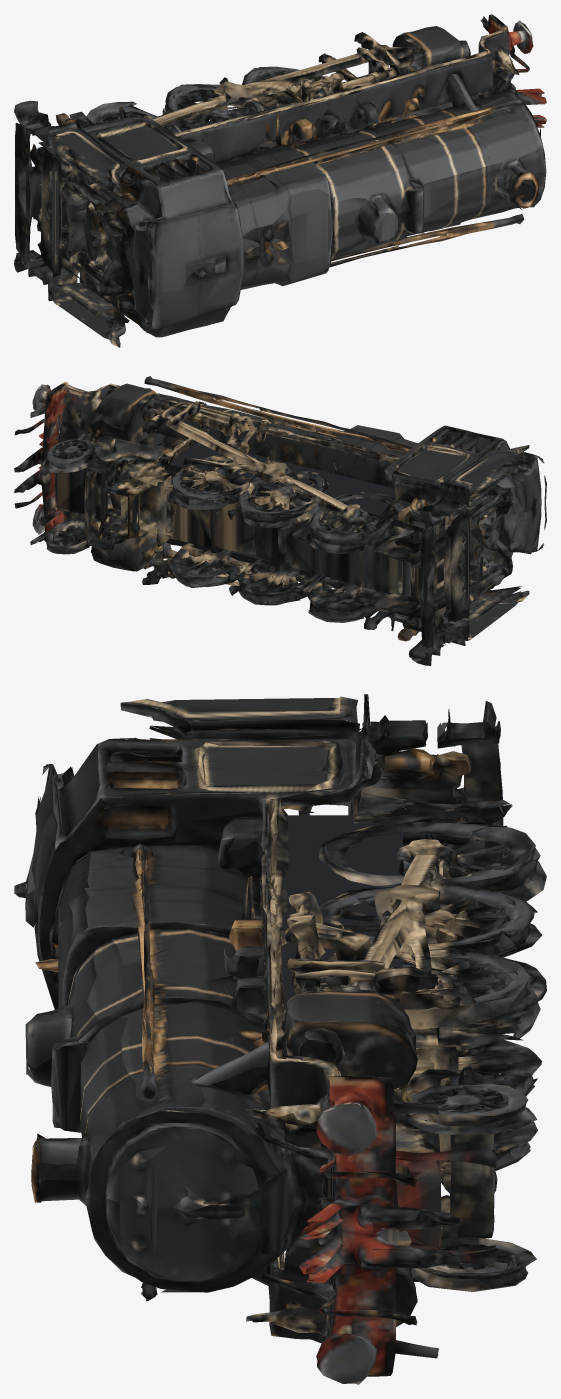
The model's file is black_five_engine_r050.glb.
3 views of the same model, one above another, from view 1: azimuth 30°, elevation 25°; view 2: azimuth 150°, elevation 25°; view 3: azimuth 270°, elevation 25° (orthographic). The views are drawn at different scales.
Parts seen in each view (by area): view 1: part_engine.001; view 2: part_engine.001, skirt_engine.001; view 3: part_engine.001, skirt_engine.001.
Boxes of the visible parts, <box> form: part_engine.001: <box>14,14,546,347</box>; part_engine.001: <box>14,376,546,665</box>; skirt_engine.001: <box>164,442,437,590</box>; part_engine.001: <box>14,694,546,1384</box>; skirt_engine.001: <box>282,815,402,1055</box>.
Bounding box in the file's own units: 7.58 × 2.78 × 4.19.
Materials: 2 (1 with a texture image).
